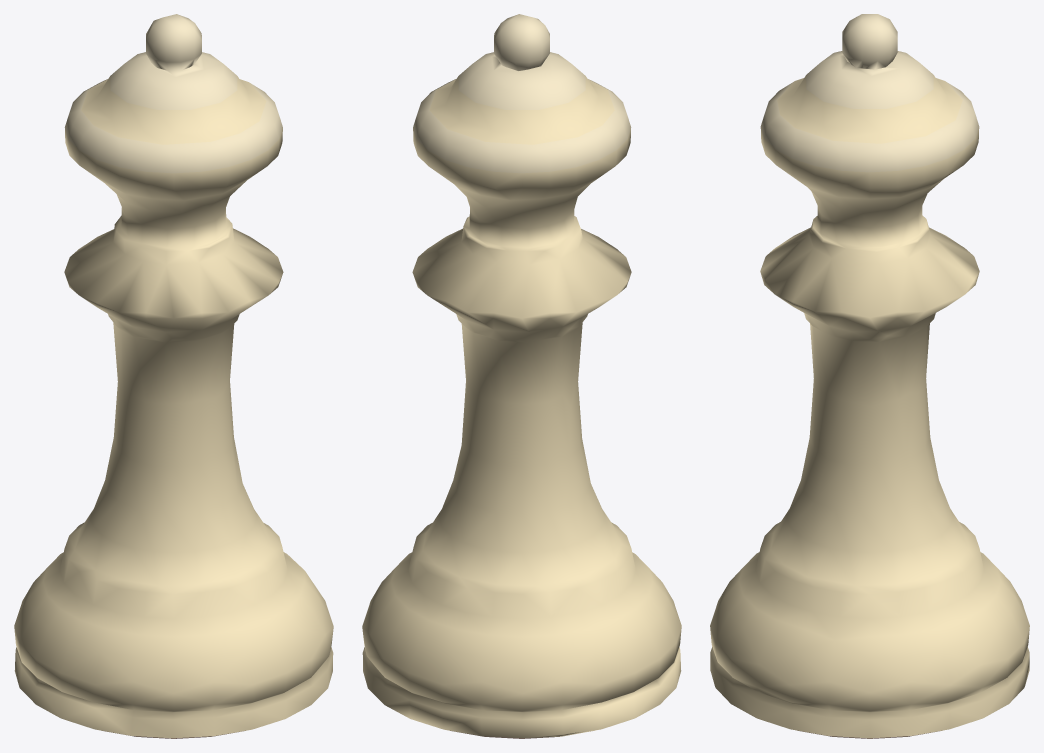
File: xadrez_rainha_branco_pacote.glb
The picture shows the model from 3 angles, left to right: view 1: azimuth 30°, elevation 25°; view 2: azimuth 150°, elevation 25°; view 3: azimuth 270°, elevation 25°; orthographic projection.
Visible parts, largest first — view 1: xadrez_rainha_branco_pacote; view 2: xadrez_rainha_branco_pacote; view 3: xadrez_rainha_branco_pacote.
Part boxes in pixels (x1,y1,x2,y2): xadrez_rainha_branco_pacote: [14, 14, 333, 738]; xadrez_rainha_branco_pacote: [362, 14, 681, 738]; xadrez_rainha_branco_pacote: [710, 14, 1029, 738].
Size of the model in its own units: 0.0399 by 0.0909 by 0.0399.
Materials: 1 (1 with a texture image).
